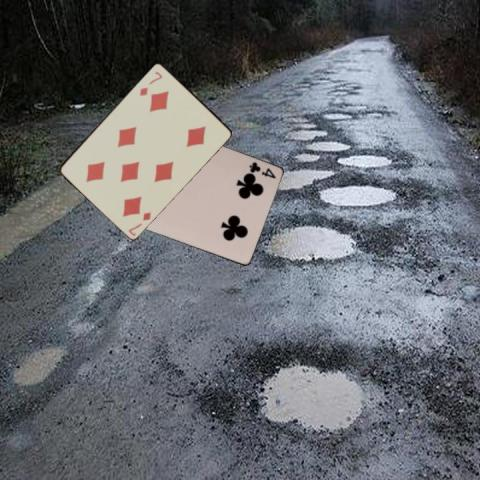4c: (246, 159, 277, 180)
7d: (125, 209, 153, 237), (137, 68, 164, 97)
